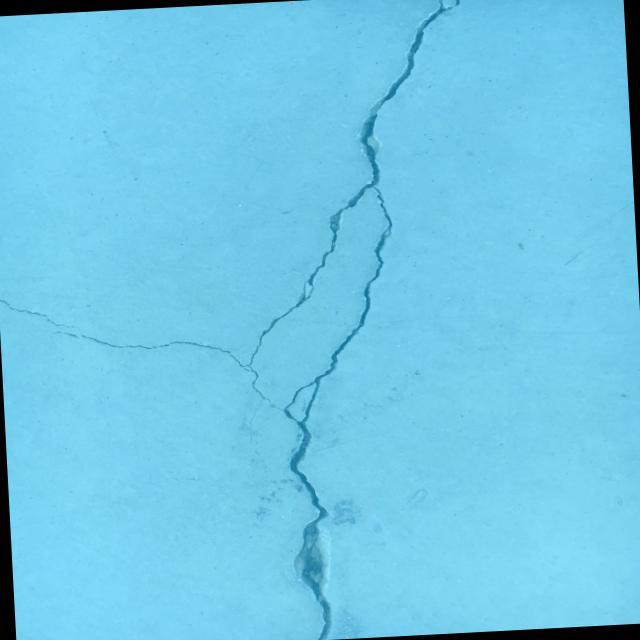crack: (34, 0, 495, 640), (0, 294, 81, 335)
